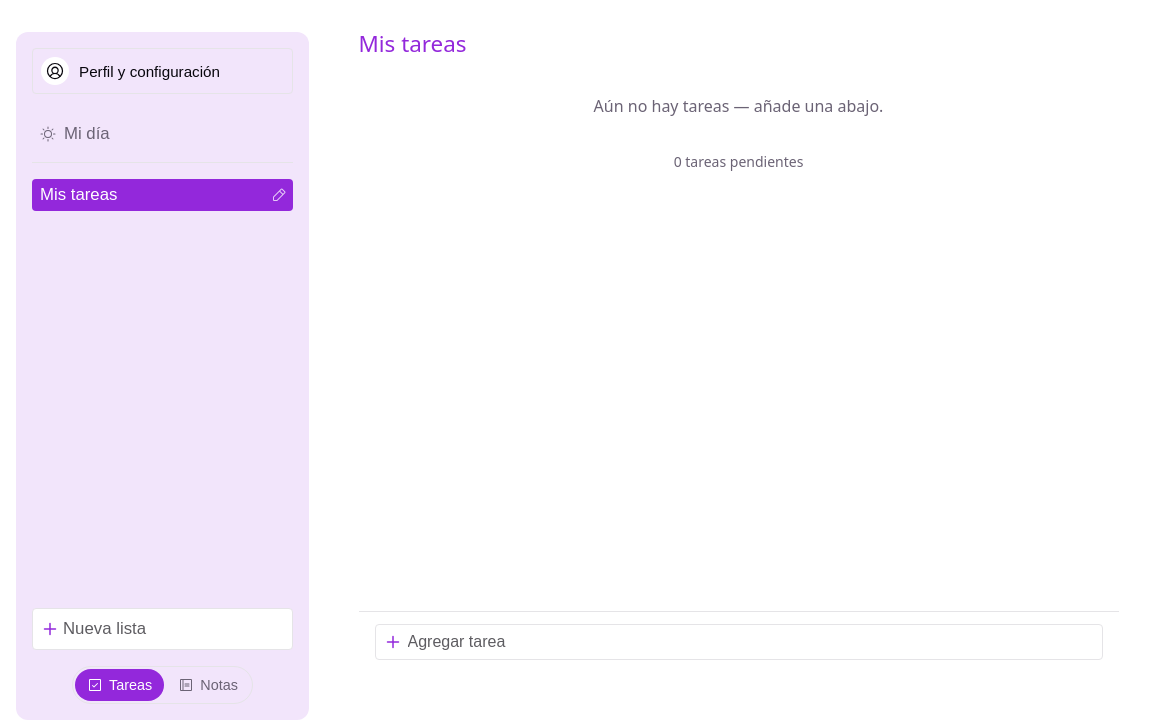
it: App › creates a new list and only shows tasks added while it is selected
The width and height of the screenshot is (1152, 720).
In the field named "texto de la nueva tarea": (738, 642) [374,624,1102,660], type "Buy milk"
Then press Enter
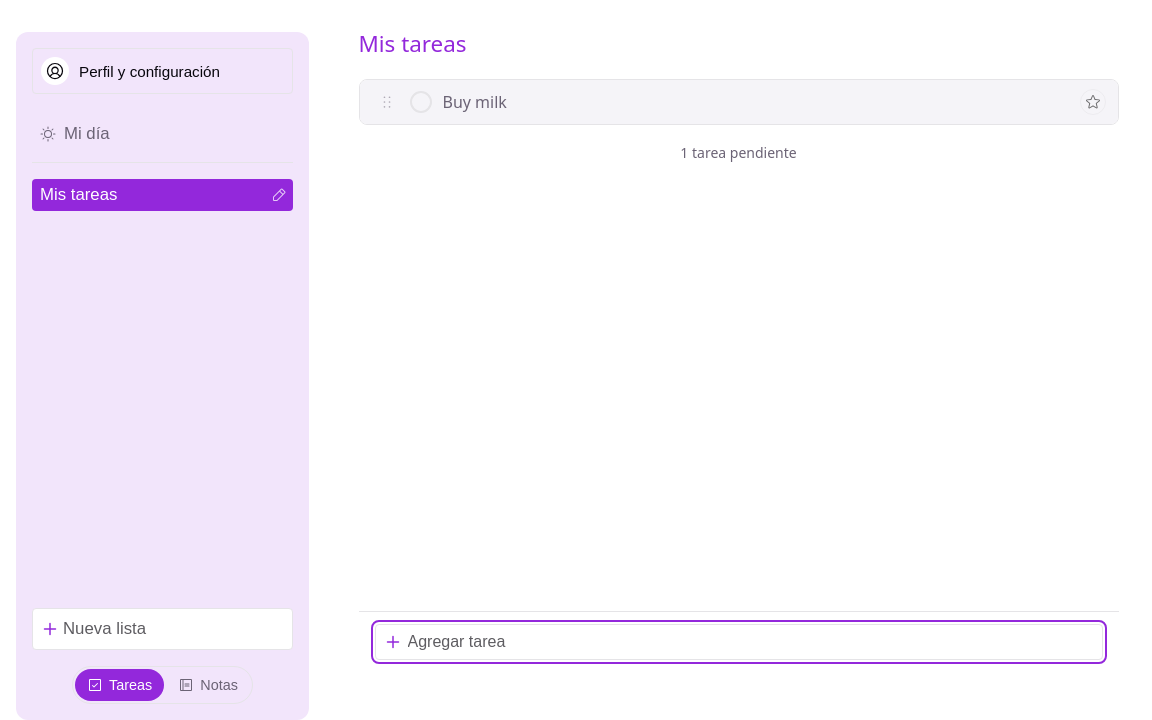
In the field named "nombre de la nueva lista": (162, 629) [32,608,293,650], type "Work"
Then press Enter
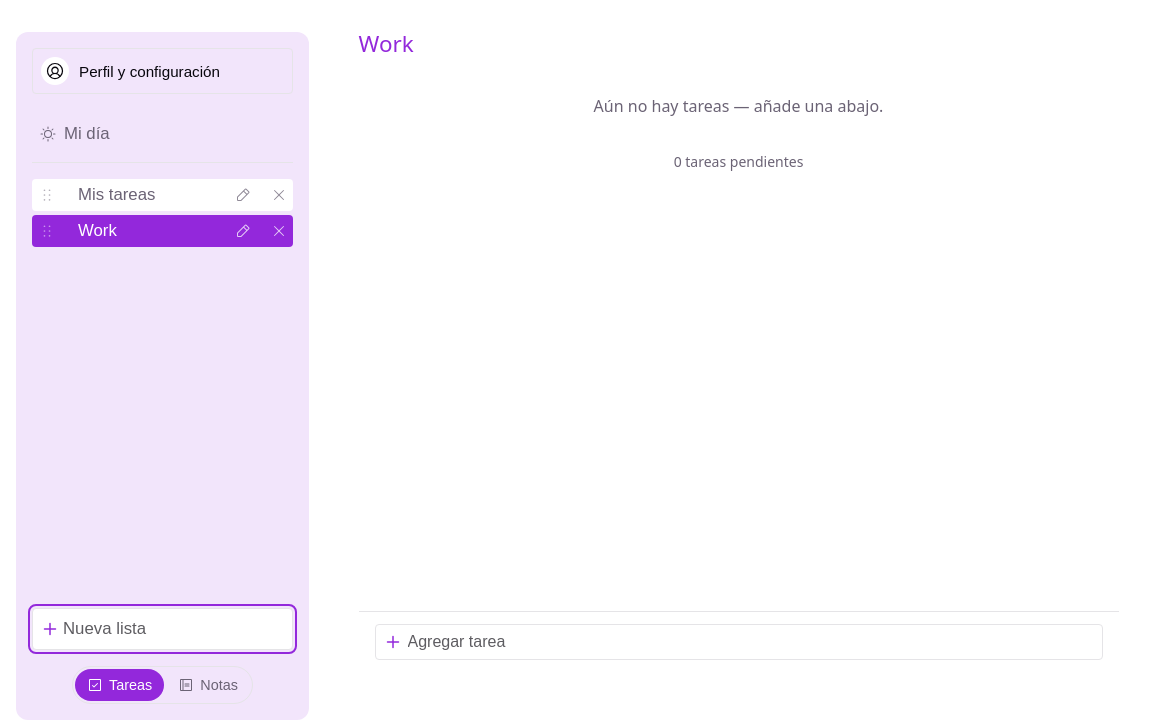
expect the button "Work" is shown: met, box [70,215,221,247]
In the field named "texto de la nueva tarea": (738, 642) [374,624,1102,660], type "Ship feature"
Then press Enter
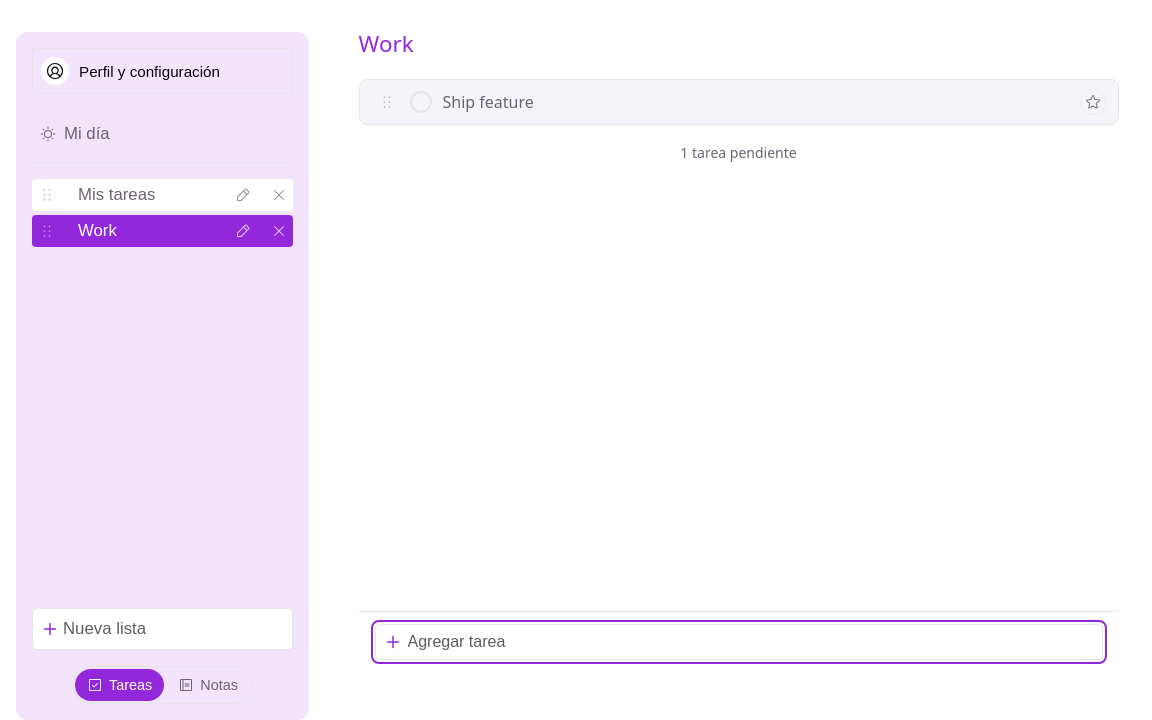
expect the button "Buy milk" is not shown: met
expect the text "Ship feature" is shown: met, box [442,91,534,114]
Click the button "Mis tareas": (146, 195) [70,179,221,211]
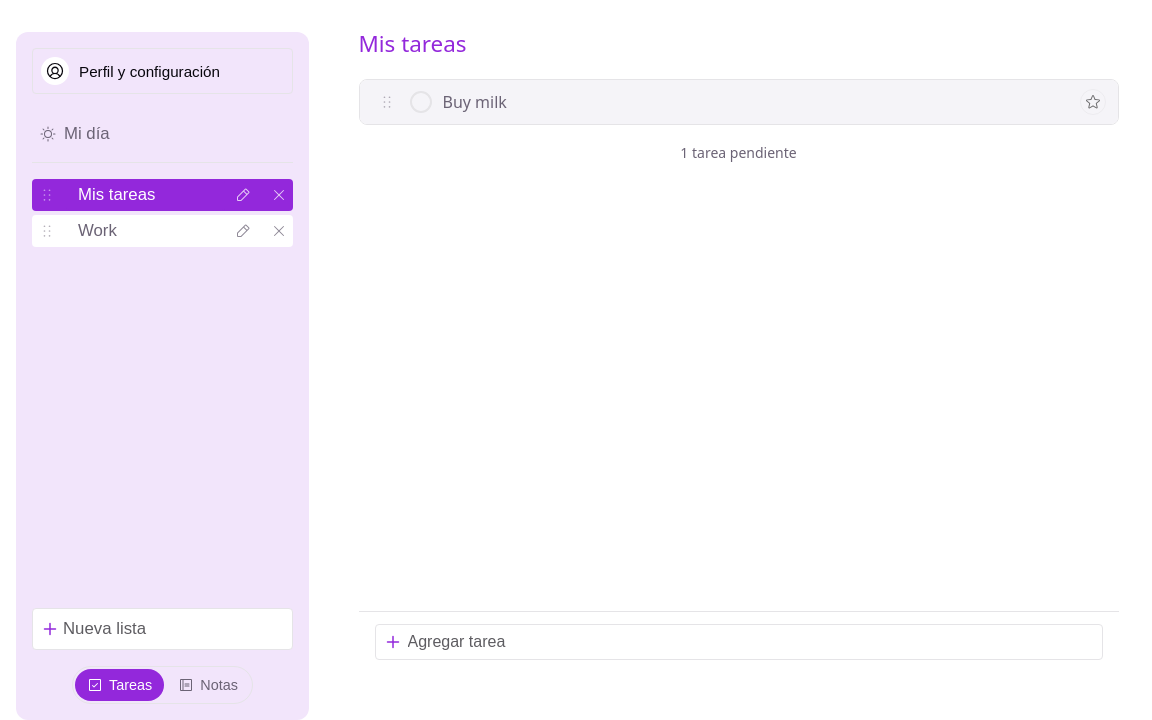
expect the text "Buy milk" is shown: met, box [442,91,507,114]
expect the button "Ship feature" is gone: met
